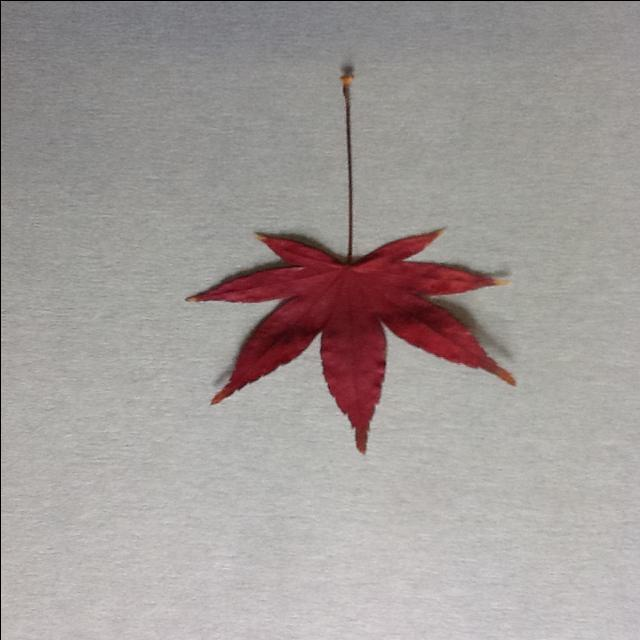foliage: (186, 69, 514, 455)
